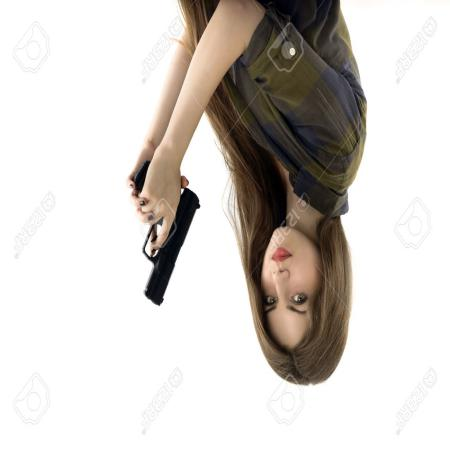Pistol: (132, 152, 208, 310)
